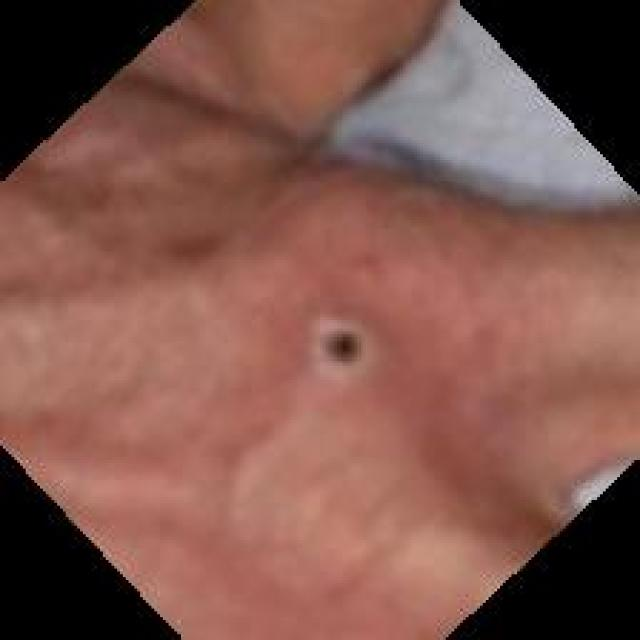monkeypox: (175, 159, 494, 522)
